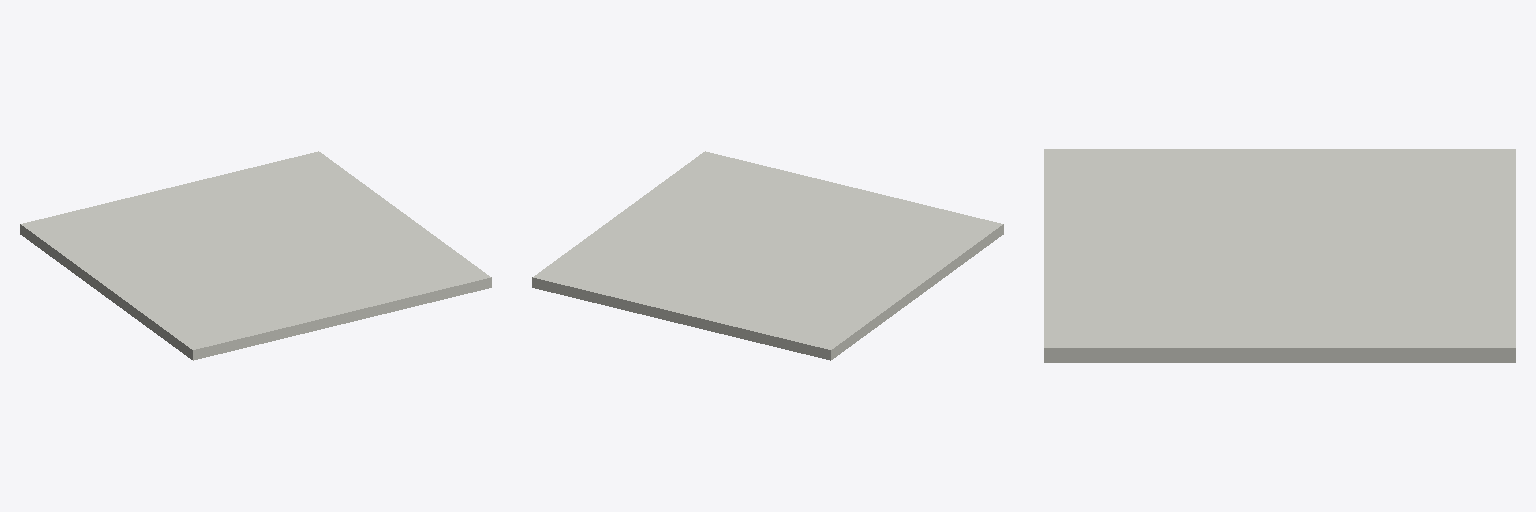
The robot description file, URDF, robot "floor":
<?xml version="1.0"?>
<!-- Copy of FLOOR in multicap_scene.py: update both together.
     3 x 3 x 0.1 m slab with its top at z = -0.01, so its centre is at z = -0.06. Load at the identity pose. -->
<robot name="floor">
  <link name="floor_link">
    <inertial>
      <mass value="1"/>
      <inertia ixx="1" ixy="0" ixz="0" iyy="1" iyz="0" izz="1"/>
    </inertial>
    <visual>
      <origin xyz="0 0 -0.06"/>
      <geometry><box size="3 3 0.1"/></geometry>
      <material name="floor_colour"><color rgba="0.85 0.85 0.82 0.35"/></material>
    </visual>
    <collision>
      <origin xyz="0 0 -0.06"/>
      <geometry><box size="3 3 0.1"/></geometry>
    </collision>
  </link>
</robot>

--- Render facts (derived) ---
3 views of the same robot in one strip: view 1: azimuth 30°, elevation 25°; view 2: azimuth 150°, elevation 25°; view 3: azimuth 270°, elevation 25° (orthographic).
Robot: floor — 1 links, 0 joints (none); root link floor_link; default pose: all joints at 0.
Links seen in each view (by area): view 1: floor_link; view 2: floor_link; view 3: floor_link.
Link boxes in pixels (x1,y1,x2,y2): floor_link: [20, 151, 491, 360]; floor_link: [532, 151, 1003, 360]; floor_link: [1044, 149, 1515, 362].
Bounding box of the posed robot: 3 × 3 × 0.1 m (x, y, z).
Geometry: primitives only (box / cylinder / sphere), no mesh files.
